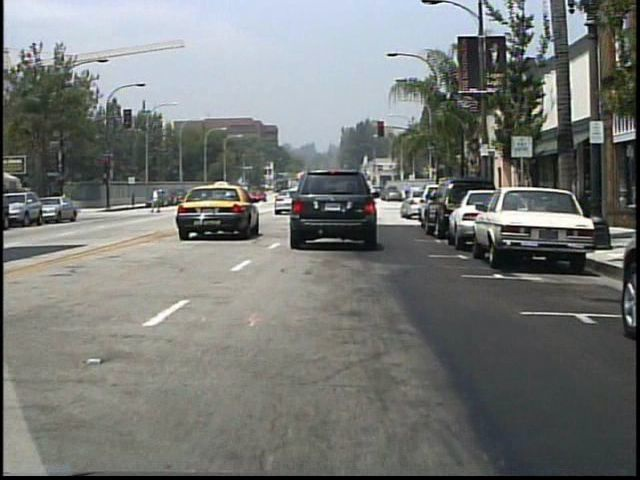person: (365, 185, 382, 216), (149, 188, 165, 216)
